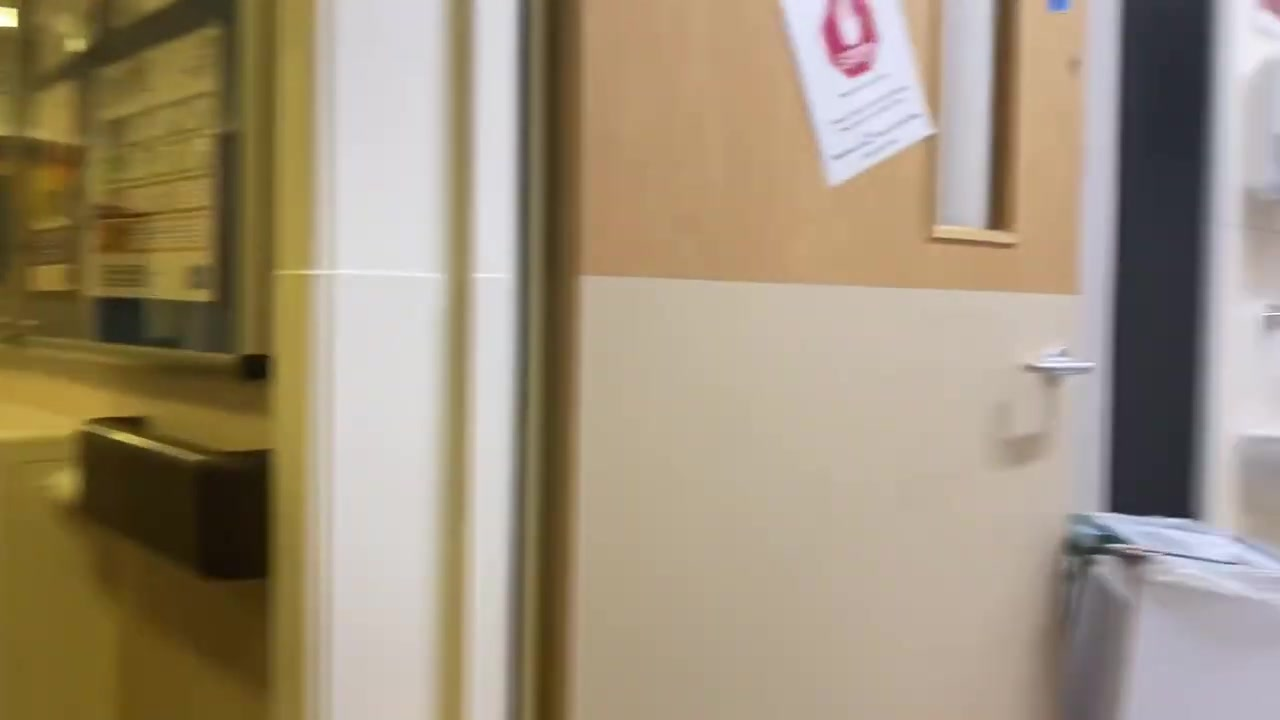door_handle: (1022, 343, 1094, 388)
